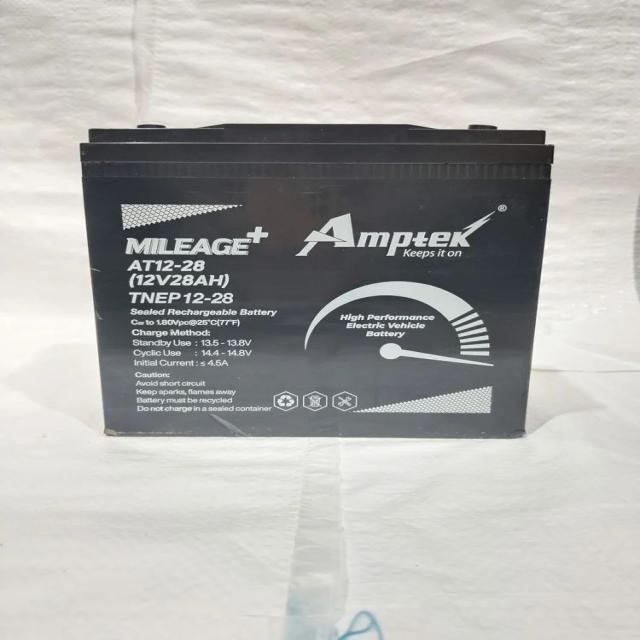electronic: (36, 73, 586, 522)
